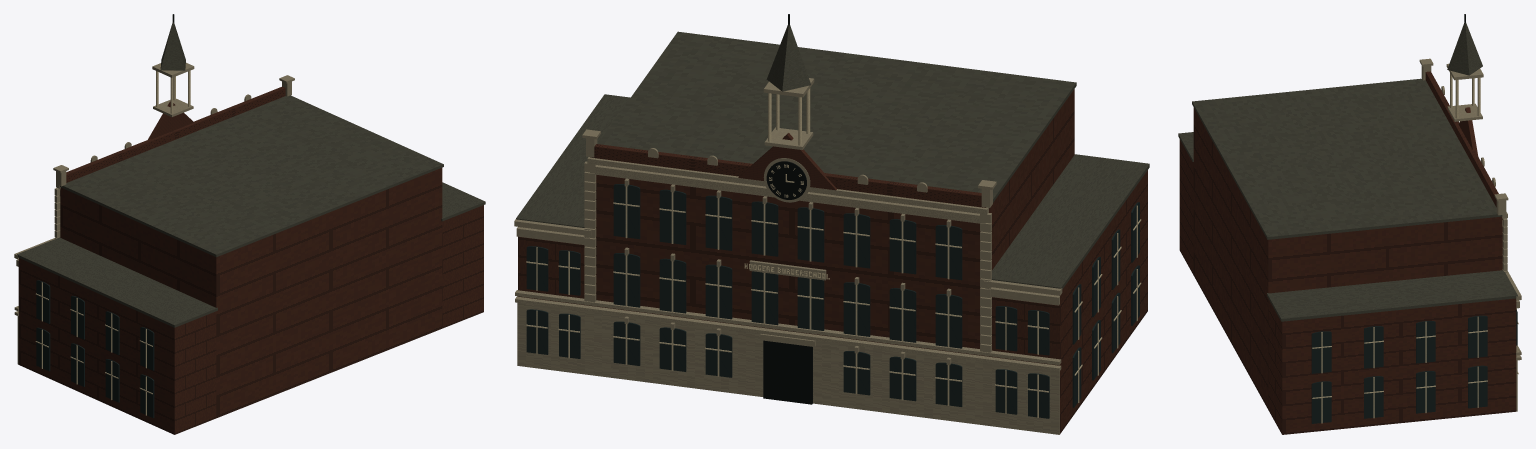
The picture shows the model from 3 angles, left to right: view 1: azimuth 30°, elevation 25°; view 2: azimuth 150°, elevation 25°; view 3: azimuth 270°, elevation 25°; orthographic projection. The views are drawn at different scales.
Parts seen in each view (by area): view 1: hbs-alkemade-3, hbs-alkemade-1, hbs-alkemade-4, hbs-alkemade-0, hbs-alkemade-2; view 2: hbs-alkemade-1, hbs-alkemade-3, hbs-alkemade-0, hbs-alkemade-4, hbs-alkemade-2, hbs-alkemade-5; view 3: hbs-alkemade-3, hbs-alkemade-1, hbs-alkemade-4, hbs-alkemade-0, hbs-alkemade-2.
Part boxes in pixels (<box>): hbs-alkemade-3: <box>18,86,483,434</box>; hbs-alkemade-1: <box>17,22,485,327</box>; hbs-alkemade-4: <box>36,280,154,418</box>; hbs-alkemade-0: <box>14,62,294,364</box>; hbs-alkemade-2: <box>35,70,190,415</box>; hbs-alkemade-1: <box>516,24,1149,289</box>; hbs-alkemade-3: <box>518,89,1147,433</box>; hbs-alkemade-0: <box>514,78,1062,434</box>; hbs-alkemade-4: <box>526,184,1139,418</box>; hbs-alkemade-2: <box>526,88,1141,417</box>; hbs-alkemade-5: <box>763,14,812,404</box>; hbs-alkemade-3: <box>1179,71,1516,434</box>; hbs-alkemade-1: <box>1178,22,1517,321</box>; hbs-alkemade-4: <box>1311,309,1517,423</box>; hbs-alkemade-0: <box>1419,58,1521,411</box>; hbs-alkemade-2: <box>1312,73,1518,423</box>.
Bounding box in the file's own units: 39.46 × 26.8 × 27.34.
Materials: 6 (6 with a texture image).
